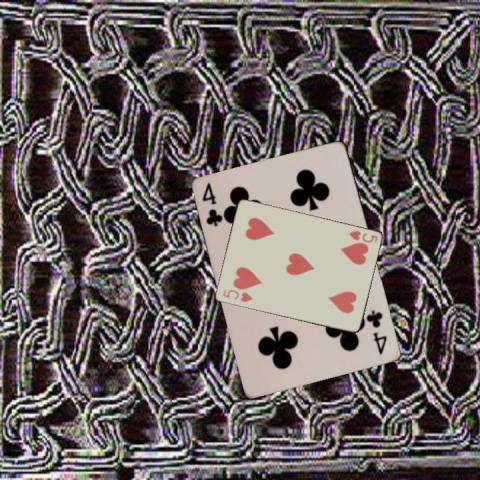4c: (364, 307, 389, 356), (199, 180, 224, 228)
5h: (345, 227, 379, 245), (219, 287, 254, 303)
